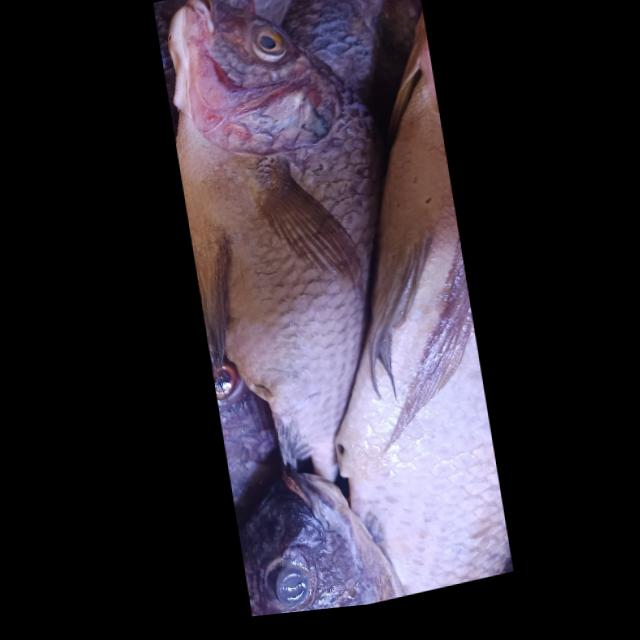Tilapia: (151, 0, 440, 514)
